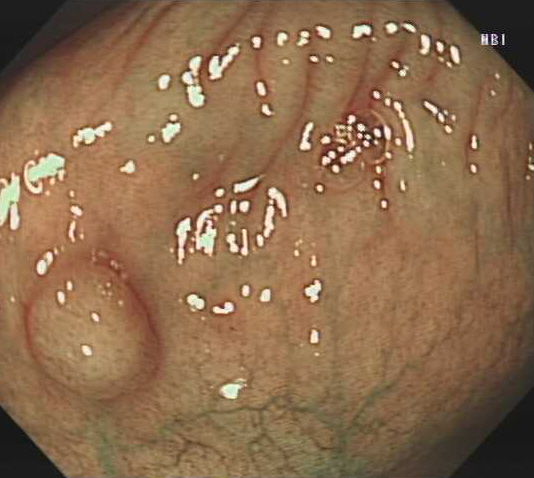adenoma: (21, 260, 162, 400)
